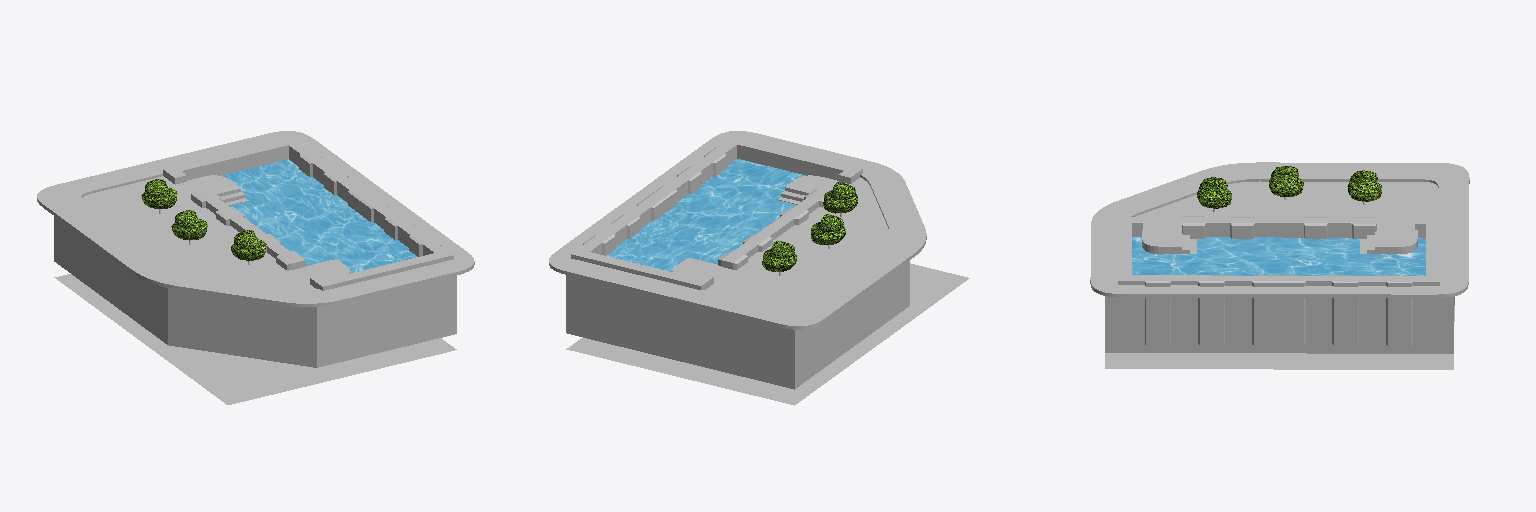
The picture shows the model from 3 angles: view 1: azimuth 30°, elevation 25°; view 2: azimuth 150°, elevation 25°; view 3: azimuth 270°, elevation 25°; orthographic projection.
Visible parts, largest first — view 1: Park; view 2: Park; view 3: Park.
Part boxes in pixels (bbox=[...]): Park: bbox=[37, 131, 474, 404]; Park: bbox=[549, 131, 969, 405]; Park: bbox=[1090, 162, 1469, 369].
Size of the model in its own units: 1005 by 410 by 1219.
Materials: 7 (3 with a texture image).